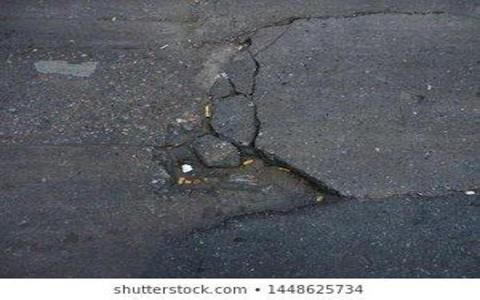patchy roads: (71, 6, 368, 266)
